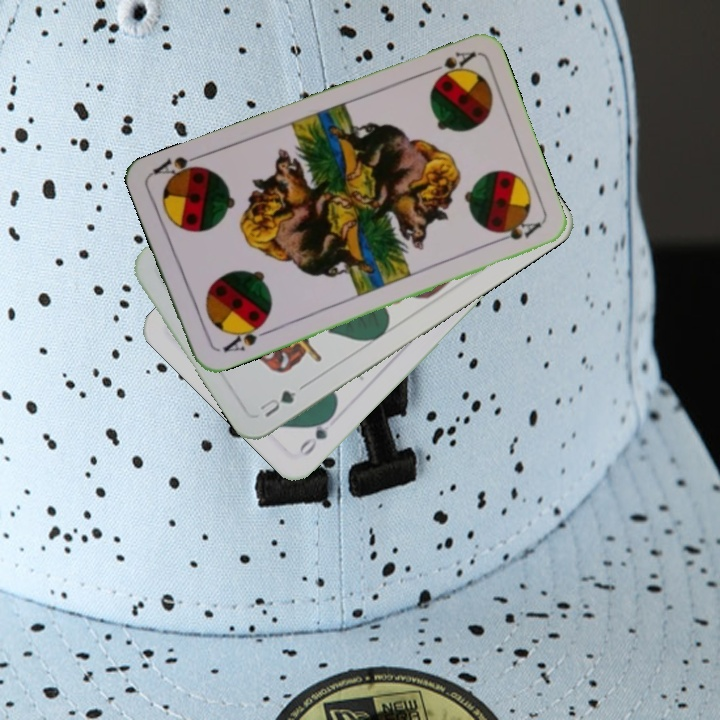GO: (294, 409, 337, 459)
GU: (254, 386, 299, 420)
SA: (421, 47, 478, 85), (218, 318, 272, 355)
